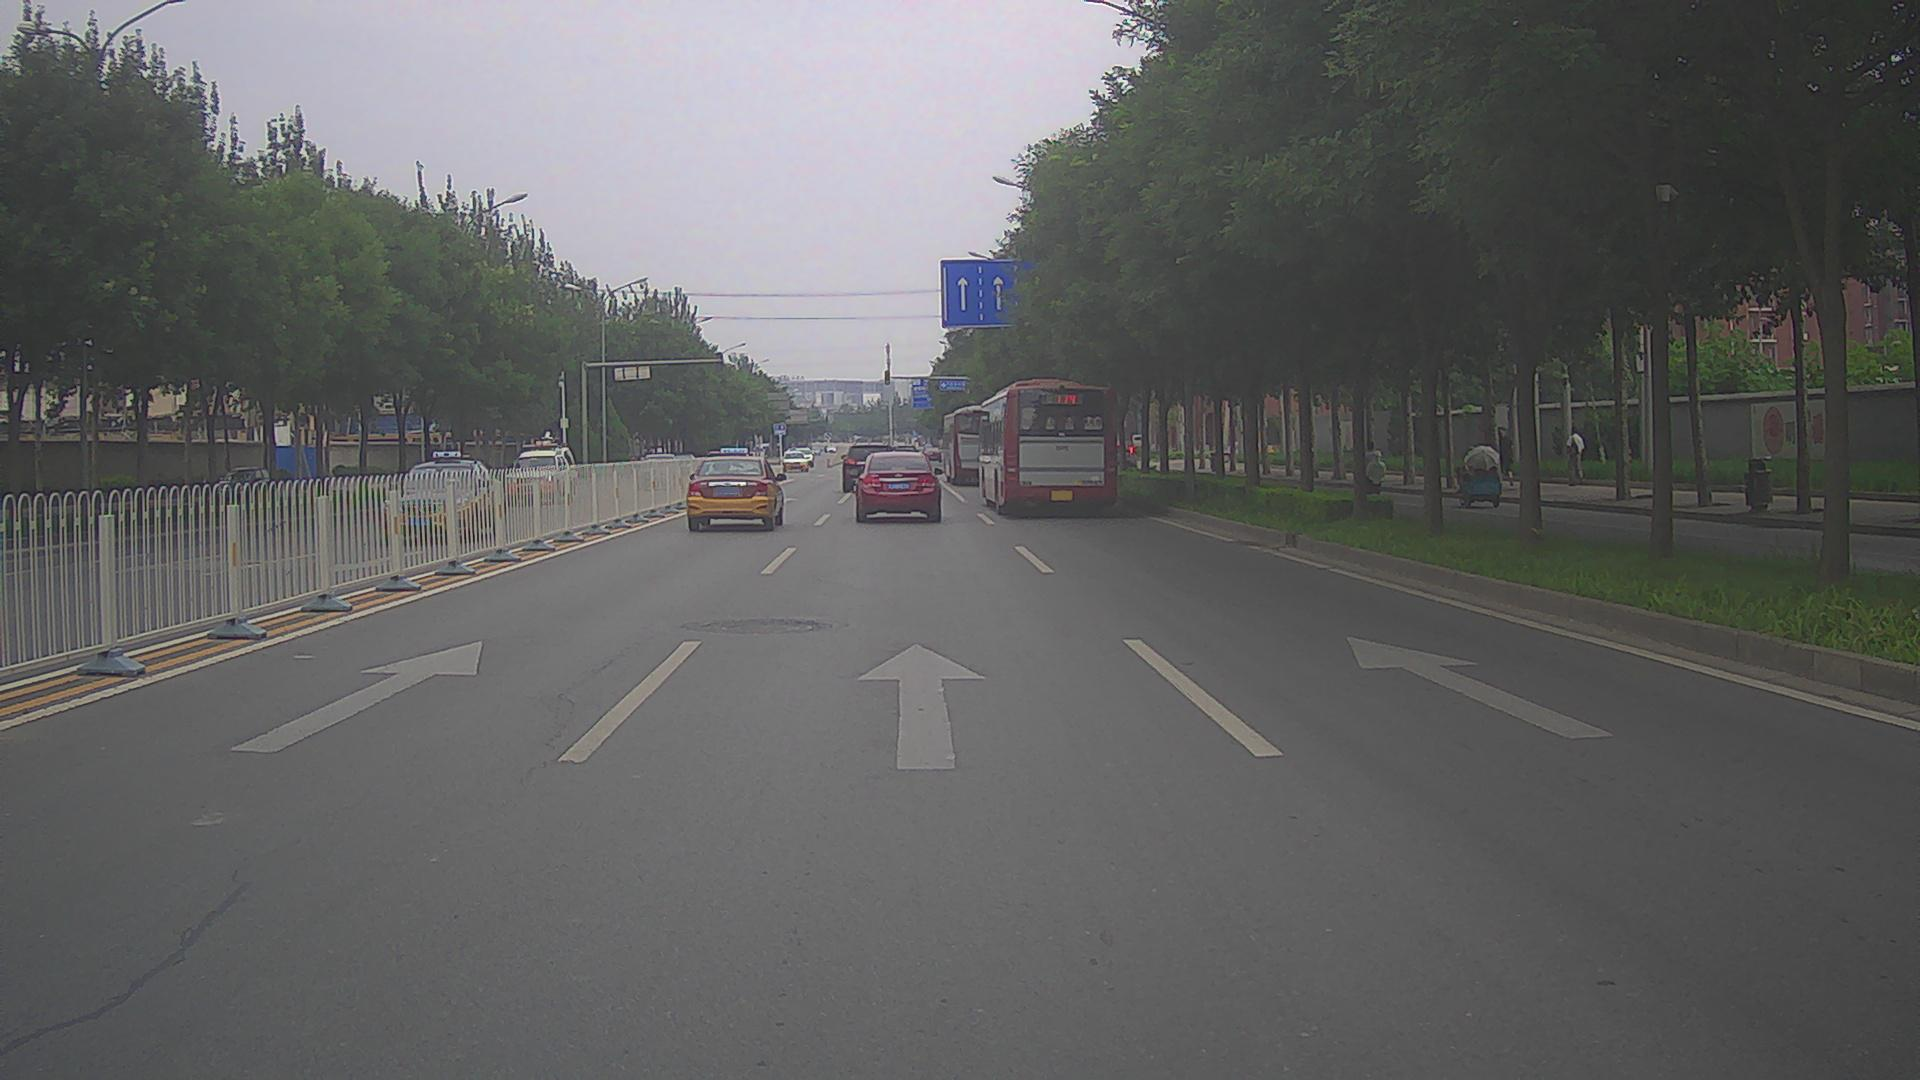bus: (968, 376, 1118, 516), (935, 403, 1009, 486)
car: (380, 449, 504, 542), (686, 446, 787, 532), (847, 450, 944, 523), (504, 434, 579, 506), (212, 464, 291, 514), (839, 439, 894, 493), (1100, 437, 1139, 469), (781, 446, 810, 473), (791, 446, 815, 468), (921, 445, 943, 463), (824, 444, 837, 453)
ignore: (751, 444, 823, 456), (891, 440, 917, 453), (1131, 431, 1144, 449)
motorcyclist: (1360, 438, 1383, 495)
pedestrian: (1564, 424, 1586, 487)
tricyclelist: (1453, 456, 1502, 509)
